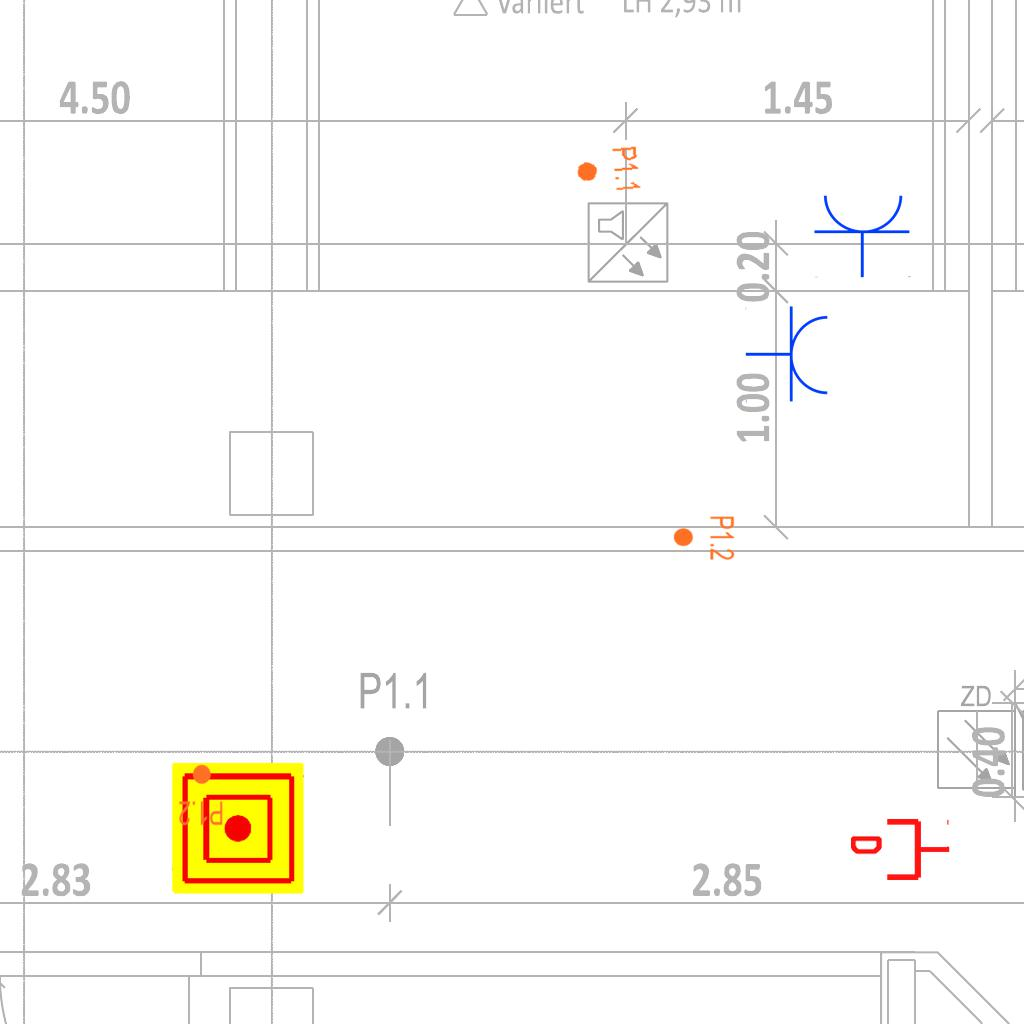Datenanschluss_einfach: (851, 815, 951, 884)
Downlight_LED_Einbauleuchten_Flur: (573, 144, 643, 198), (672, 515, 736, 561), (178, 763, 224, 827)
NAM-Nichtautomatischer_Melder: (172, 762, 304, 894)
Schukosteckdose_einfach: (745, 305, 832, 405), (813, 191, 913, 278)
